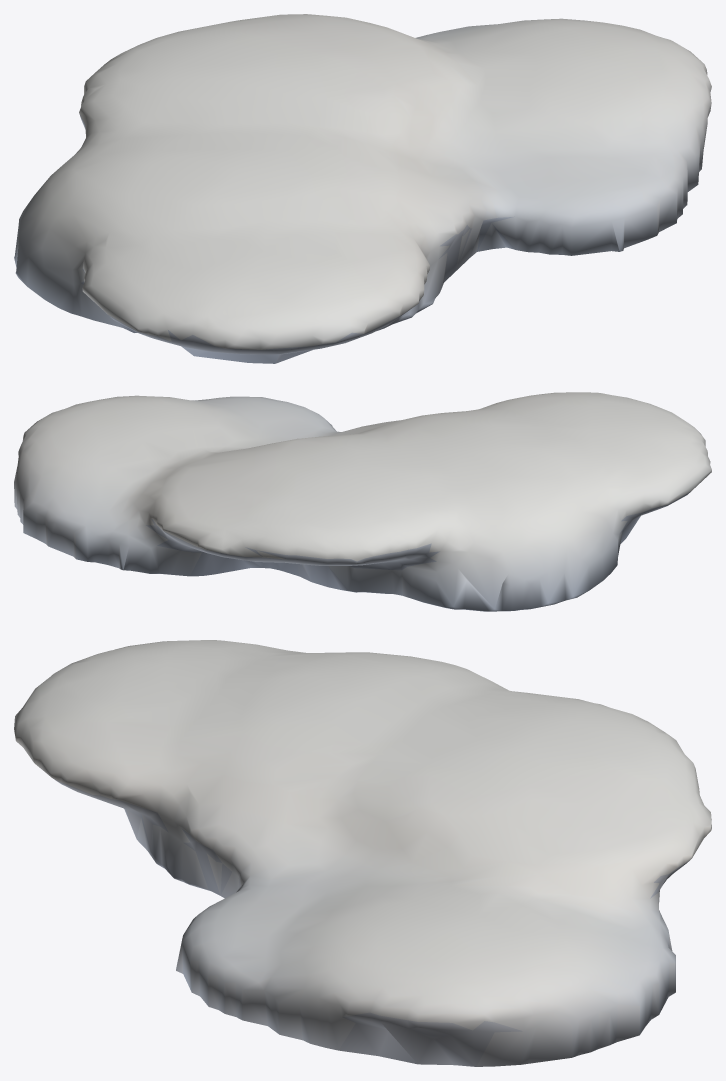
The model's file is CloudD.glb.
The picture shows the model from 3 angles, top to bottom: view 1: azimuth 30°, elevation 25°; view 2: azimuth 150°, elevation 25°; view 3: azimuth 270°, elevation 25°; orthographic projection. The views are drawn at different scales.
Visible parts, largest first — view 1: Cloud.003; view 2: Cloud.003; view 3: Cloud.003.
Part boxes in pixels (<box>): Cloud.003: <box>14,14,711,363</box>; Cloud.003: <box>14,392,711,611</box>; Cloud.003: <box>14,640,711,1066</box>.
Size of the model in its own units: 245 by 42.4 by 199.
